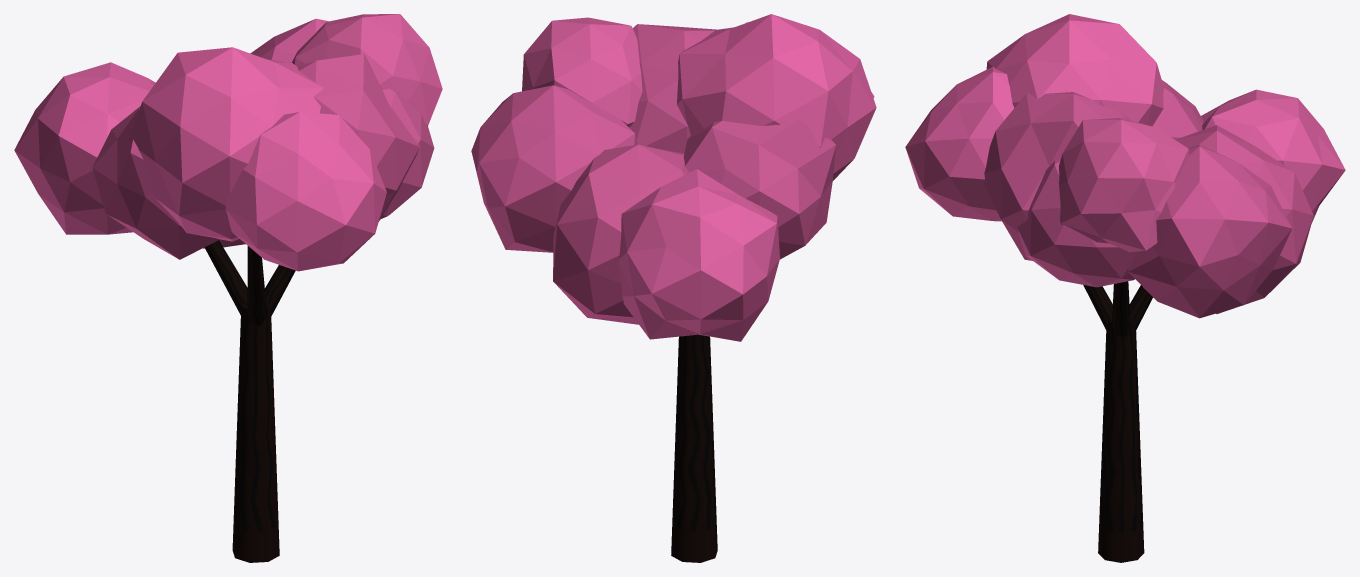
File: erguvan.glb
3 renders of one model, left to right at view 1: azimuth 30°, elevation 25°; view 2: azimuth 150°, elevation 25°; view 3: azimuth 270°, elevation 25°, orthographic. The views are drawn at different scales.
Visible parts, largest first — view 1: erguvan; view 2: erguvan; view 3: erguvan.
Boxes of the visible parts, box(x1,y1,x2,y2) form: erguvan: box(14, 14, 442, 562); erguvan: box(471, 14, 876, 562); erguvan: box(905, 14, 1345, 562).
Bounding box in the file's own units: 2.5 × 3.89 × 3.05.
Materials: 9 (1 with a texture image).
